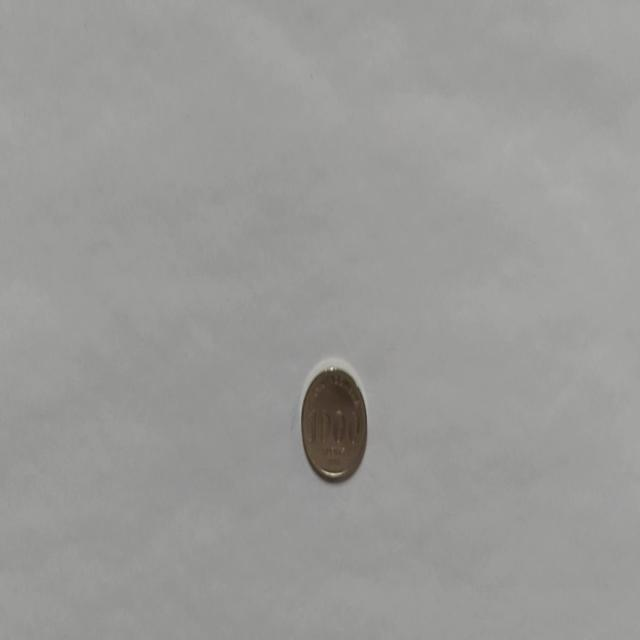seribu rupiah koin: (299, 356, 368, 484)
